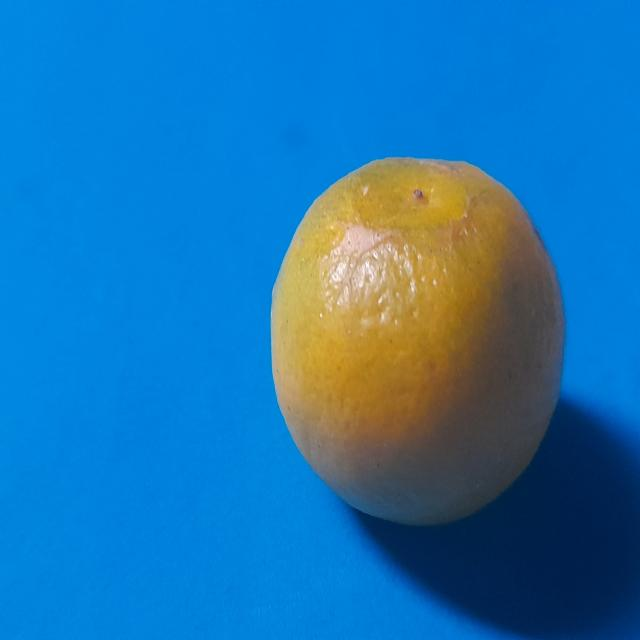greening: (270, 154, 570, 526)
